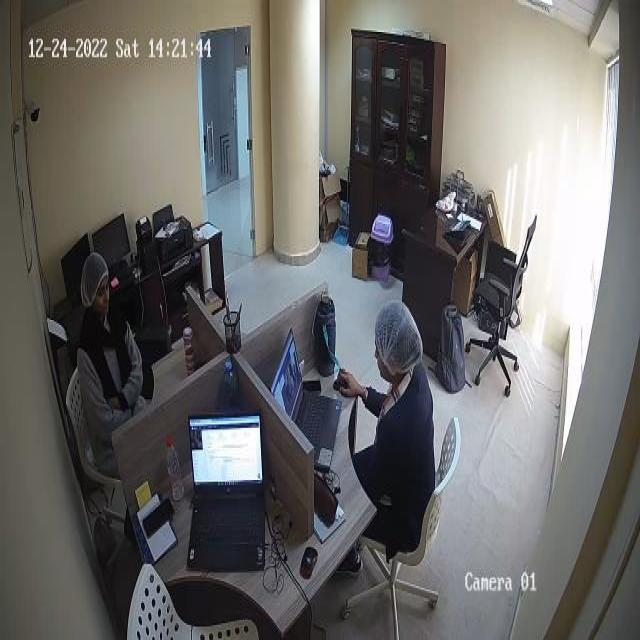hairnet: (375, 297, 420, 368), (79, 255, 105, 302)
